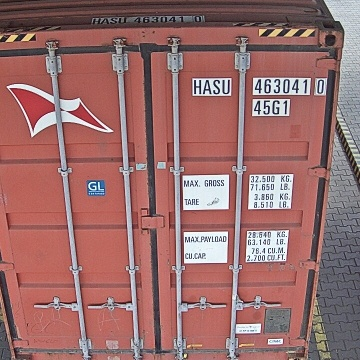serial_id: (193, 78, 326, 94)
